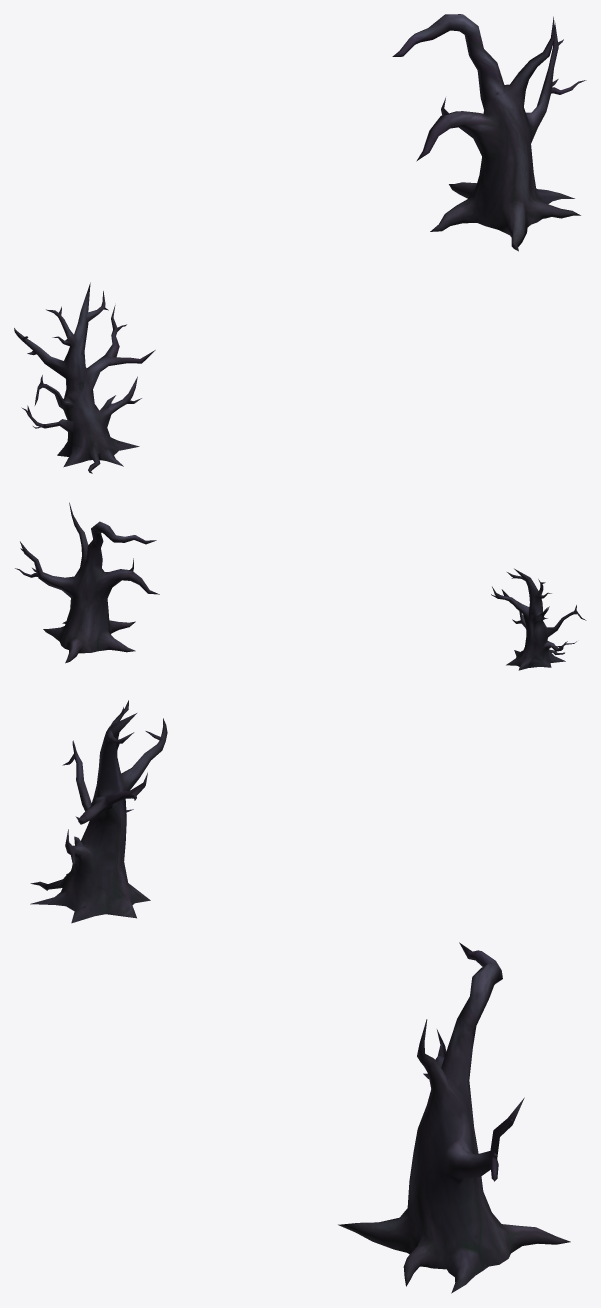
File: Area14_11.fbx
The picture shows the model from 3 angles, top to bottom: view 1: azimuth 30°, elevation 25°; view 2: azimuth 150°, elevation 25°; view 3: azimuth 270°, elevation 25°; orthographic projection. The views are drawn at different scales.
Parts seen in each view (by area): view 1: Area14_11; view 2: Area14_11; view 3: Area14_11.
Boxes of the visible parts, <box> form: Area14_11: <box>14,14,586,473</box>; Area14_11: <box>15,502,586,670</box>; Area14_11: <box>30,700,570,1293</box>.
Size of the model in its own units: 3516 by 945 by 1775.
